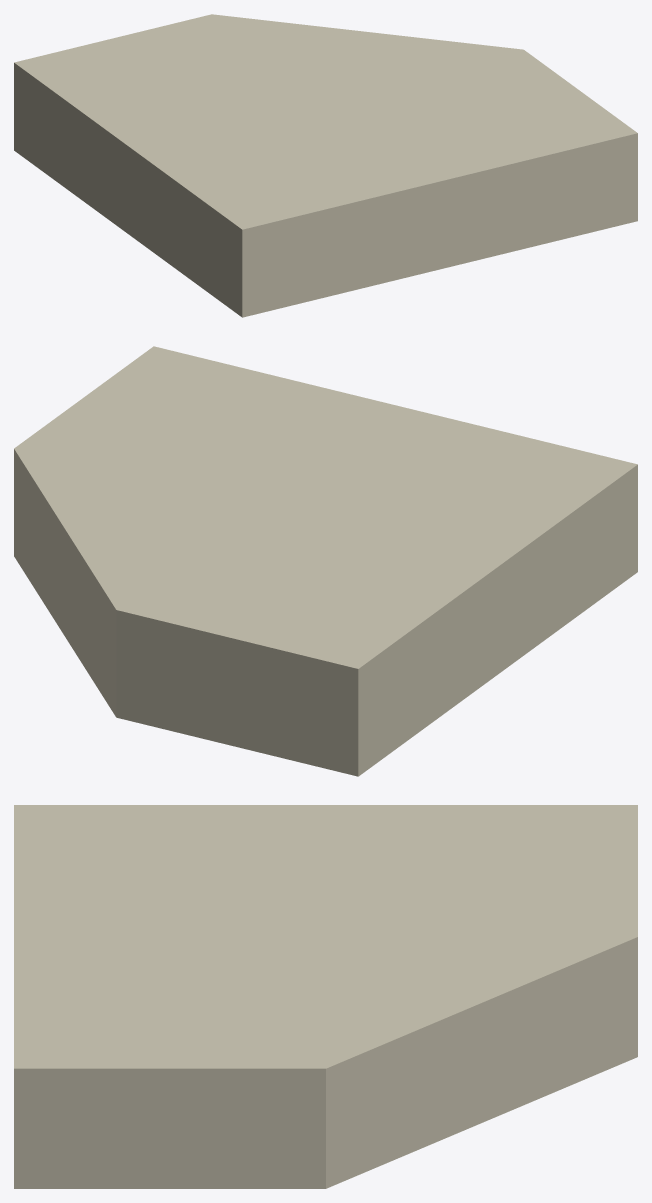
Rendered from building_013.dae.
The picture shows the model from 3 angles, top to bottom: view 1: azimuth 30°, elevation 25°; view 2: azimuth 150°, elevation 25°; view 3: azimuth 270°, elevation 25°; orthographic projection. The views are drawn at different scales.
Parts seen in each view (by area): view 1: building_013; view 2: building_013; view 3: building_013.
Part boxes in pixels (left/top/right/bottom): building_013: left=14, top=14, right=637, bottom=317; building_013: left=14, top=346, right=637, bottom=776; building_013: left=14, top=805, right=637, bottom=1188.
Size of the model in its own units: 1 by 0.2125 by 1.
